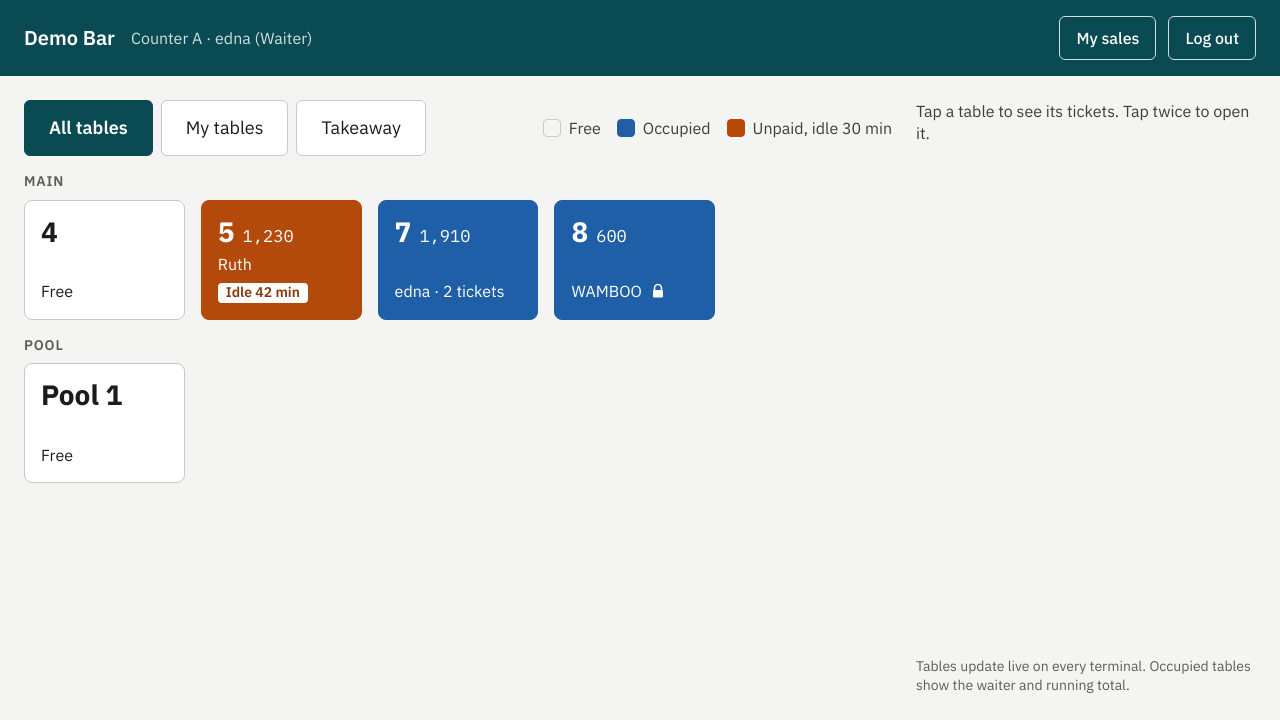
table map › hides merge and move when they are not allowed
The image size is (1280, 720).
Click the button with aria-label "7: " at (458, 260), box [378,200,538,320]
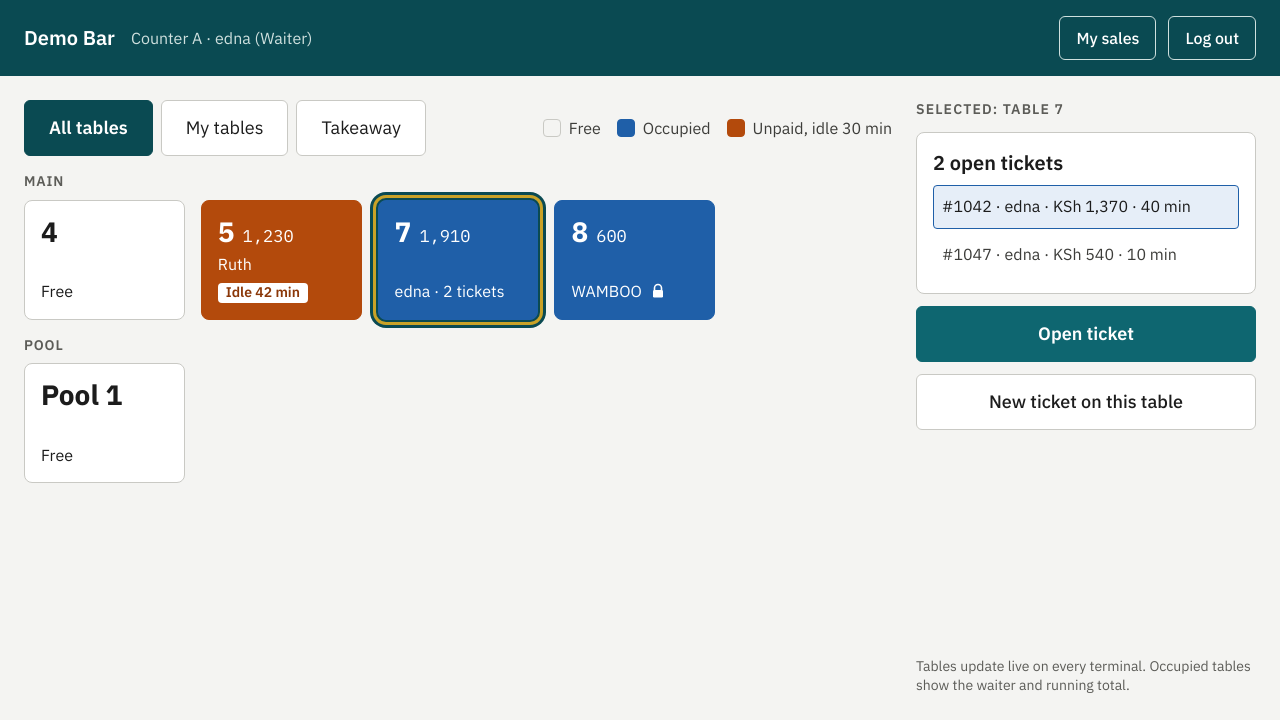
Check: the button "Open ticket" is enabled, box [916,306,1256,362]
